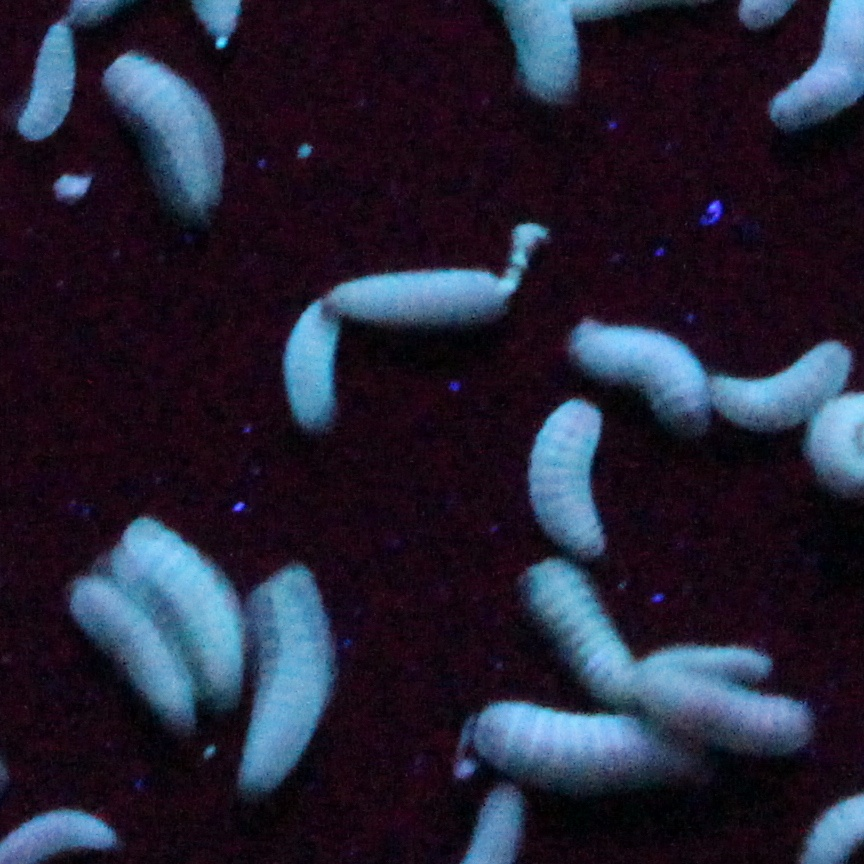larve: (115, 514, 248, 701), (68, 574, 188, 741), (102, 74, 228, 214), (255, 568, 328, 794), (648, 661, 822, 754), (528, 554, 628, 708), (482, 708, 688, 781), (719, 328, 855, 431), (528, 401, 608, 561), (568, 328, 702, 414), (328, 261, 495, 321), (282, 301, 334, 442), (22, 19, 71, 161)
